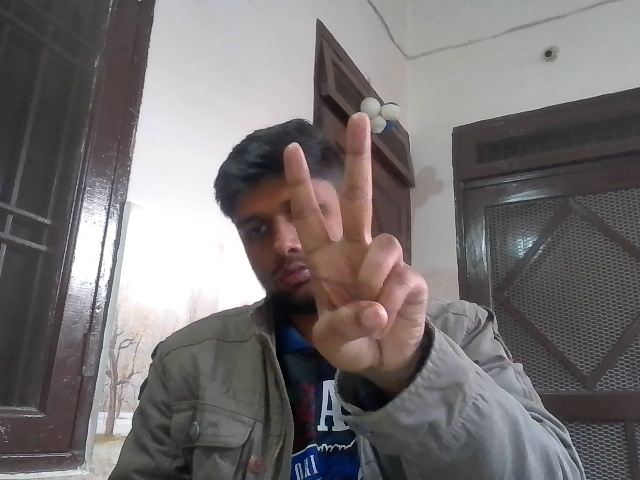Enjoy: (280, 107, 435, 380)
